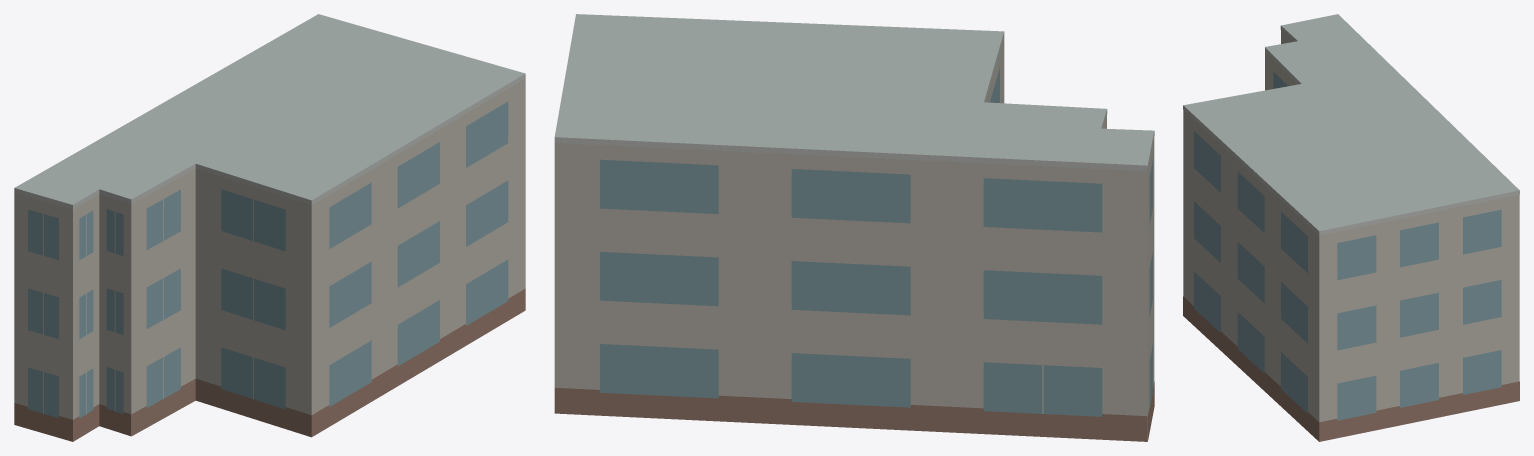
The model's file is survey-upis-32497891.glb.
3 renders of one model, left to right at view 1: azimuth 30°, elevation 25°; view 2: azimuth 150°, elevation 25°; view 3: azimuth 270°, elevation 25°, orthographic. The views are drawn at different scales.
Parts seen in each view (by area): view 1: survey-upis-32497891.tmp; view 2: survey-upis-32497891.tmp; view 3: survey-upis-32497891.tmp.
Boxes of the visible parts, left/top/right/bottom form: survey-upis-32497891.tmp: left=14, top=14, right=525, bottom=441; survey-upis-32497891.tmp: left=554, top=14, right=1154, bottom=441; survey-upis-32497891.tmp: left=1183, top=14, right=1519, bottom=441.
Bounding box in the file's own units: 26.51 × 11.98 × 17.36.
